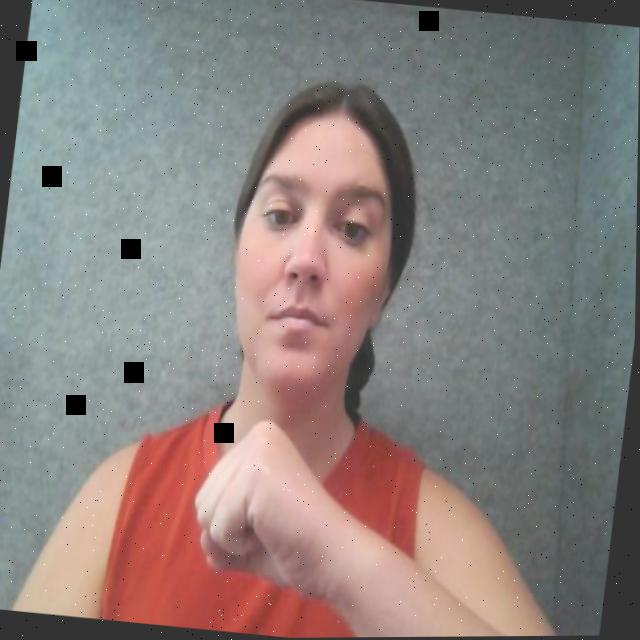Rock: (112, 386, 463, 639)
